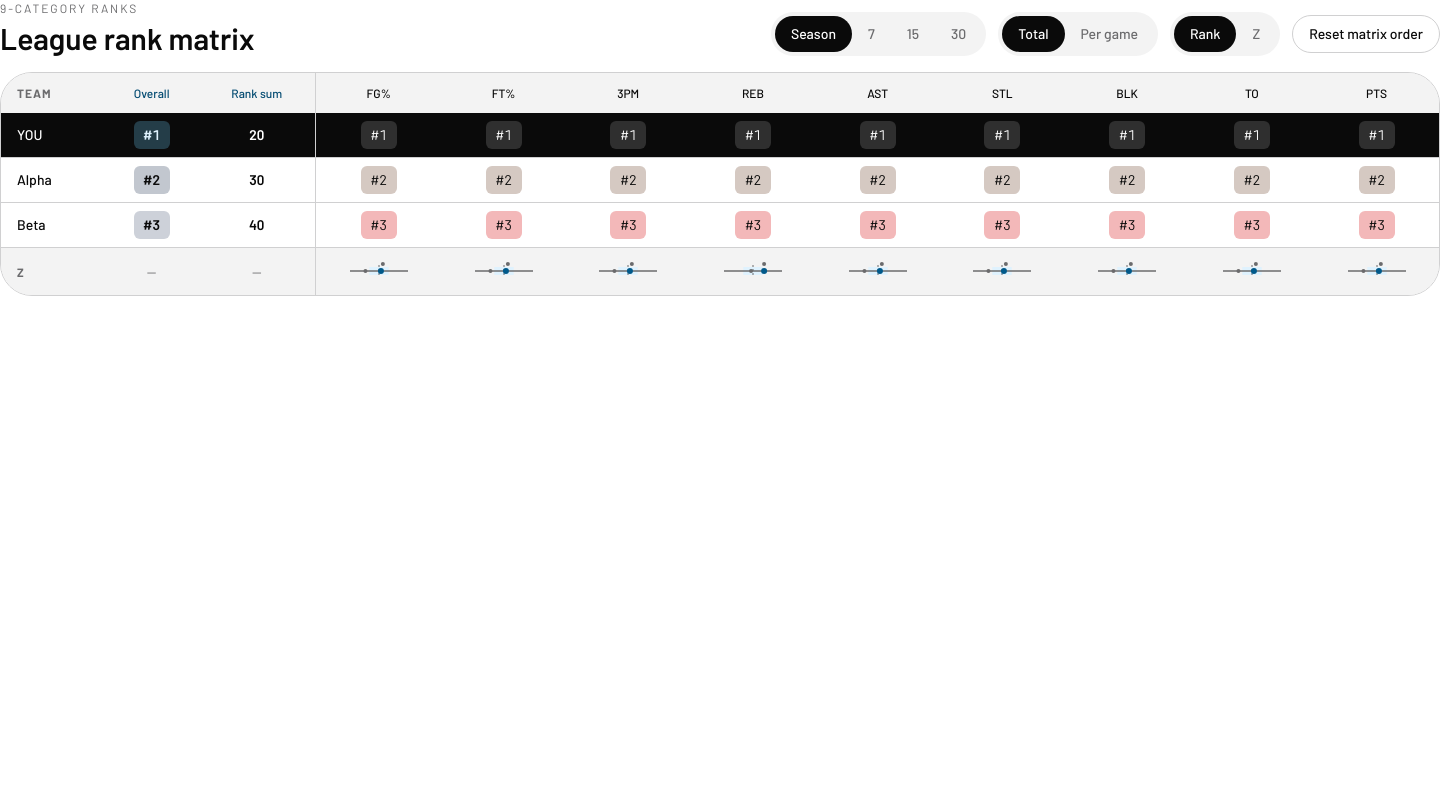
Test: LeagueRankMatrix z row › closes when the scrim is pressed
The width and height of the screenshot is (1440, 810).
Click the button named "Show FG% league z".
click(379, 271)  # box left=343, top=256, right=415, bottom=286
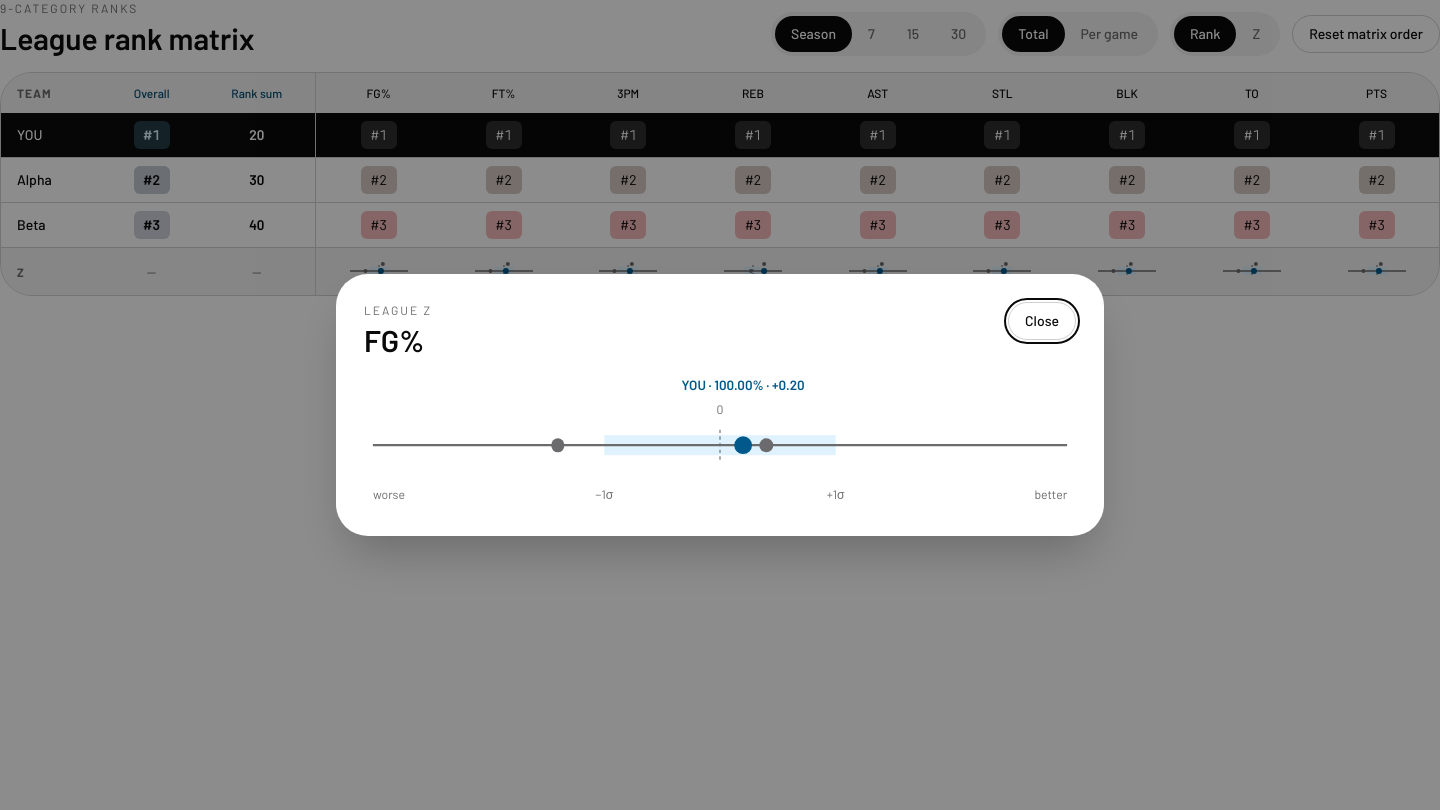
Press the mouse on the dialog at [720, 405], box left=0, top=0, right=1439, bottom=809
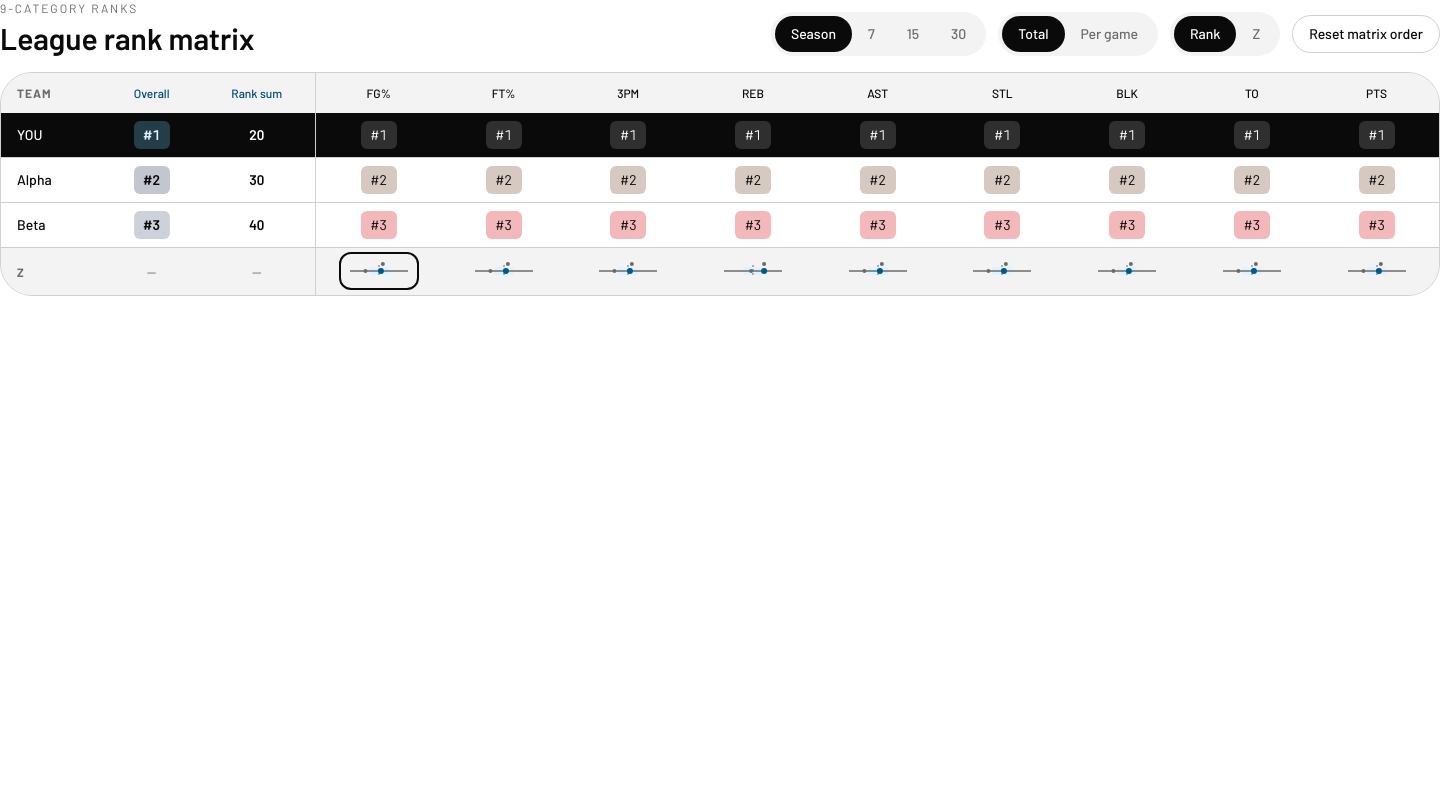
Now the dialog is gone
